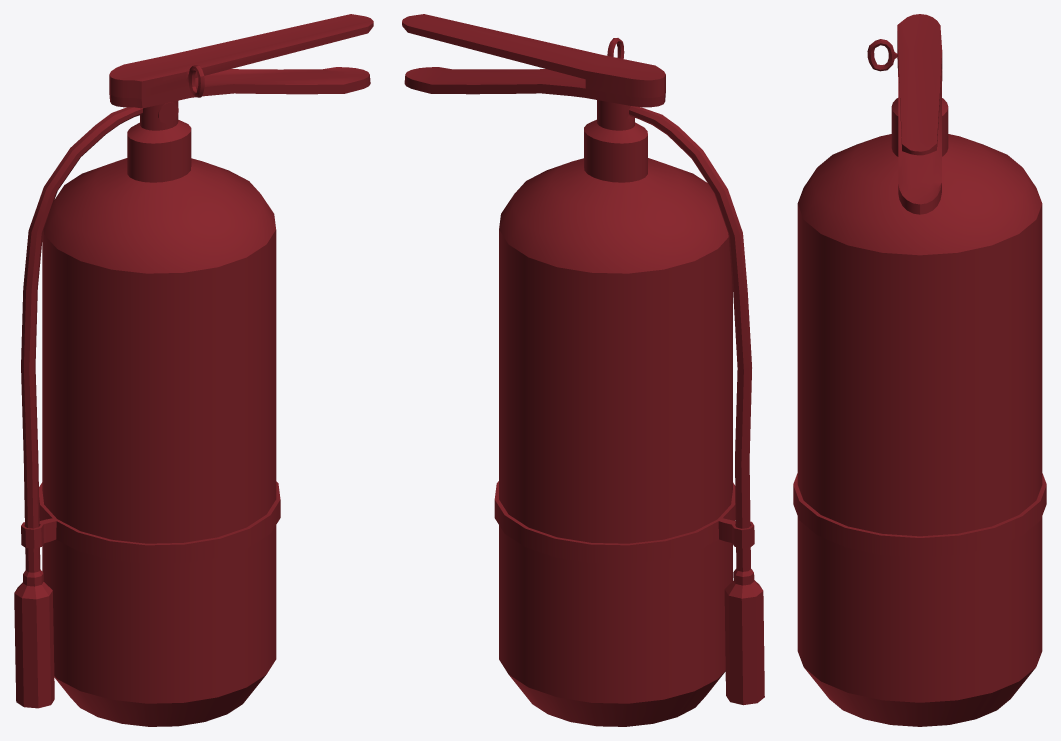
Rendered from Gasnica.fbx.
The picture shows the model from 3 angles, left to right: view 1: azimuth 30°, elevation 25°; view 2: azimuth 150°, elevation 25°; view 3: azimuth 270°, elevation 25°; orthographic projection. The views are drawn at different scales.
Parts seen in each view (by area): view 1: Cylinder; view 2: Cylinder; view 3: Cylinder.
Boxes of the visible parts, x1=… form: Cylinder: x1=14, y1=14, x2=373, y2=726; Cylinder: x1=402, y1=14, x2=764, y2=726; Cylinder: x1=793, y1=14, x2=1046, y2=726.
Size of the model in its own units: 261 by 461 by 155.
